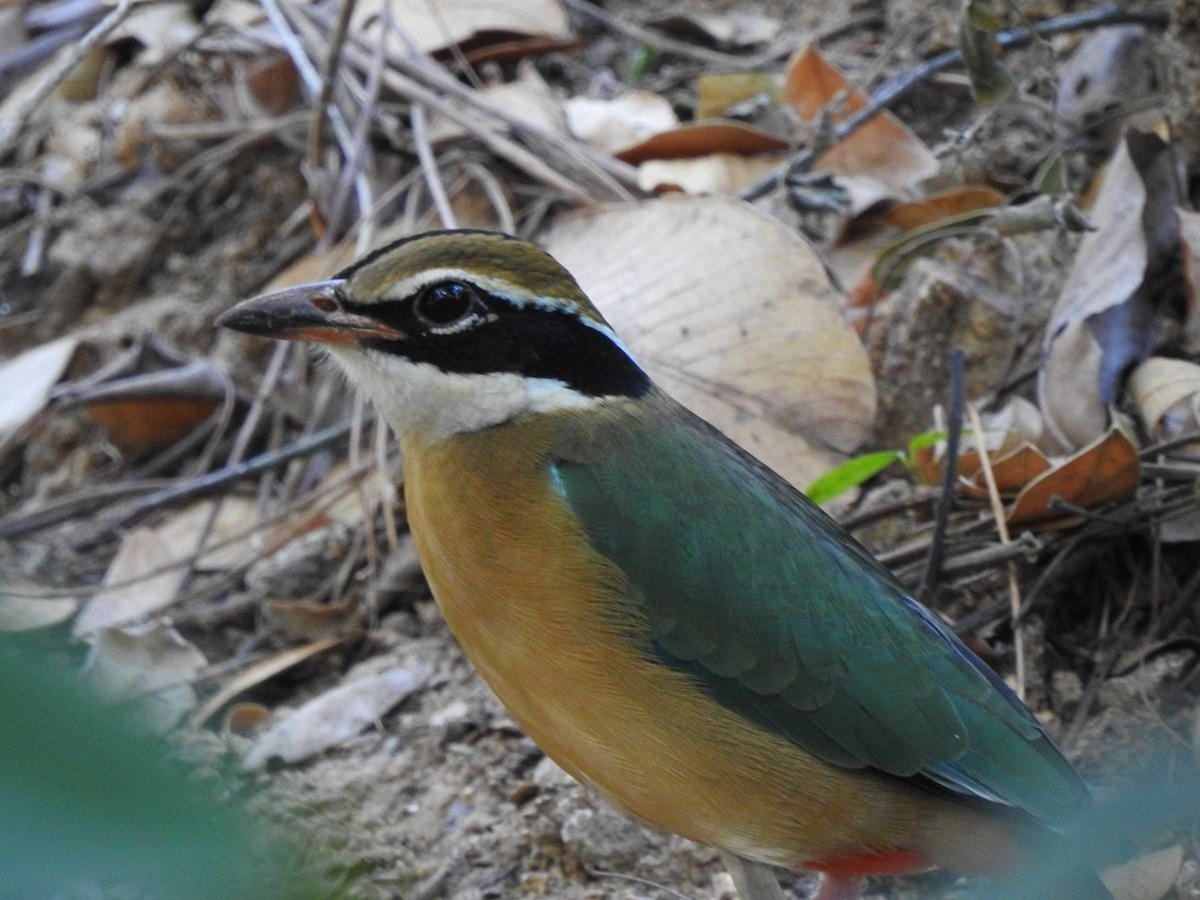pitta: (200, 207, 959, 794)
